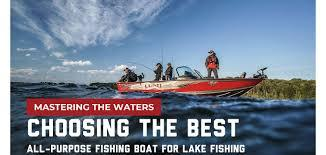fishing boat: (114, 48, 273, 98)
